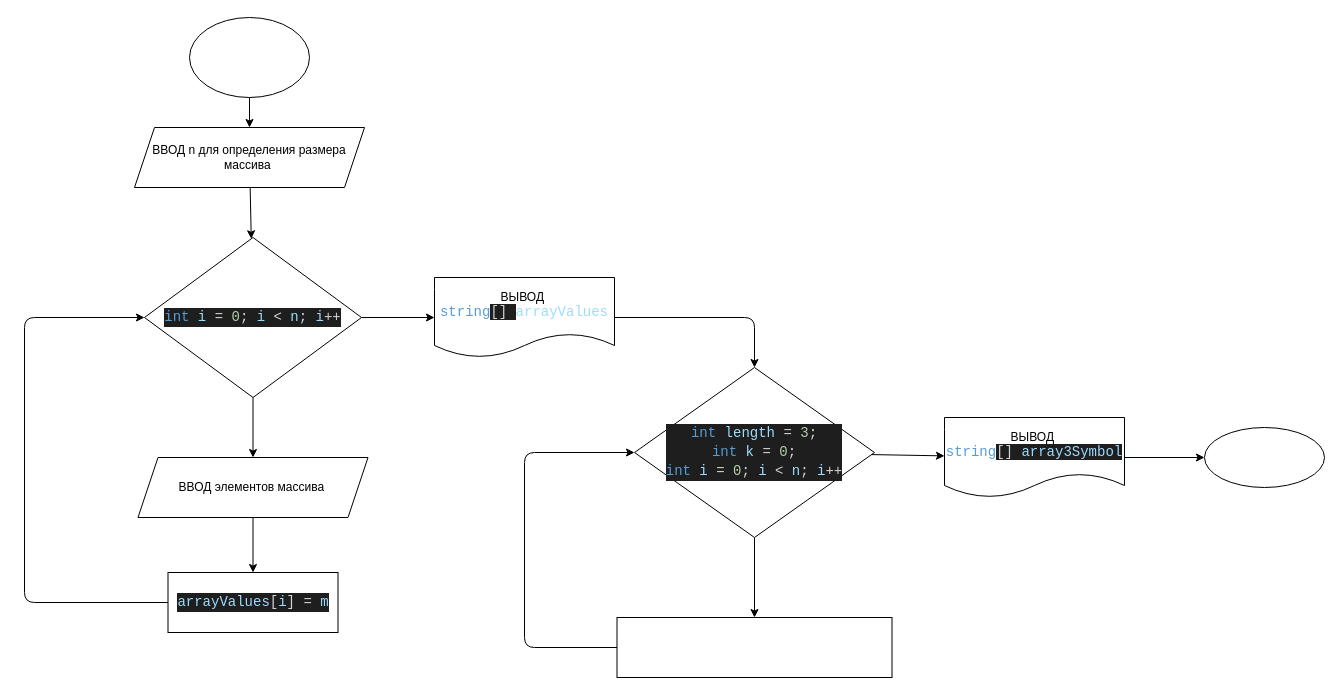
Some shapes in this 1342 by 695 pixel diagram are drawn without their labels. Here are the shapes that lost their labels. From the top down, the centre of each, then its label:
At point (249, 57): "START".
At point (1264, 457): "end".
At point (754, 647): "array3Symbol [ k ] = arrayValues [ i ]; k ++".
